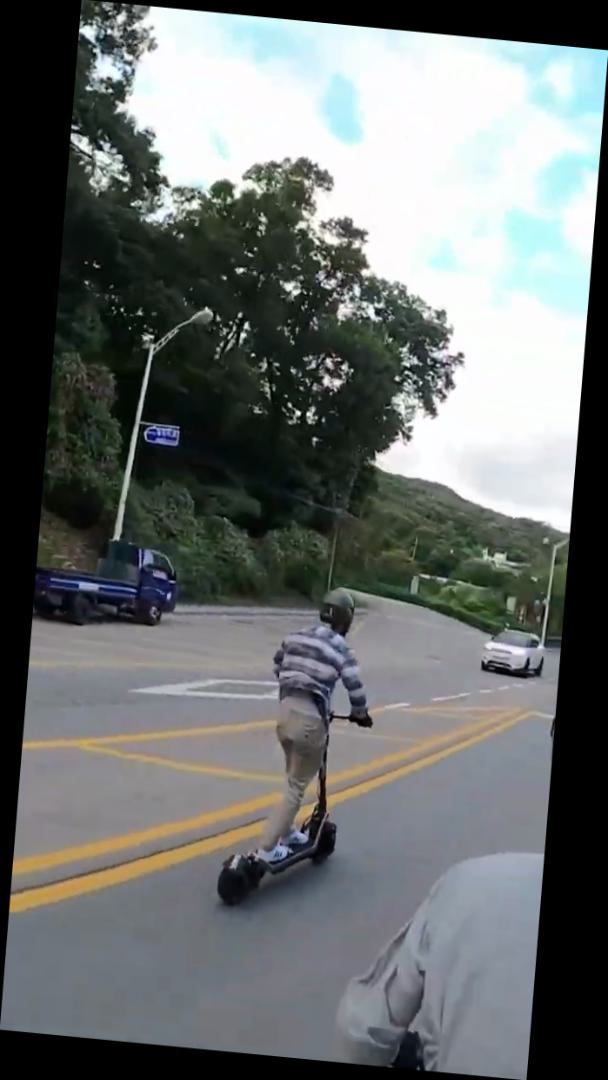helmet: (213, 576, 385, 917)
